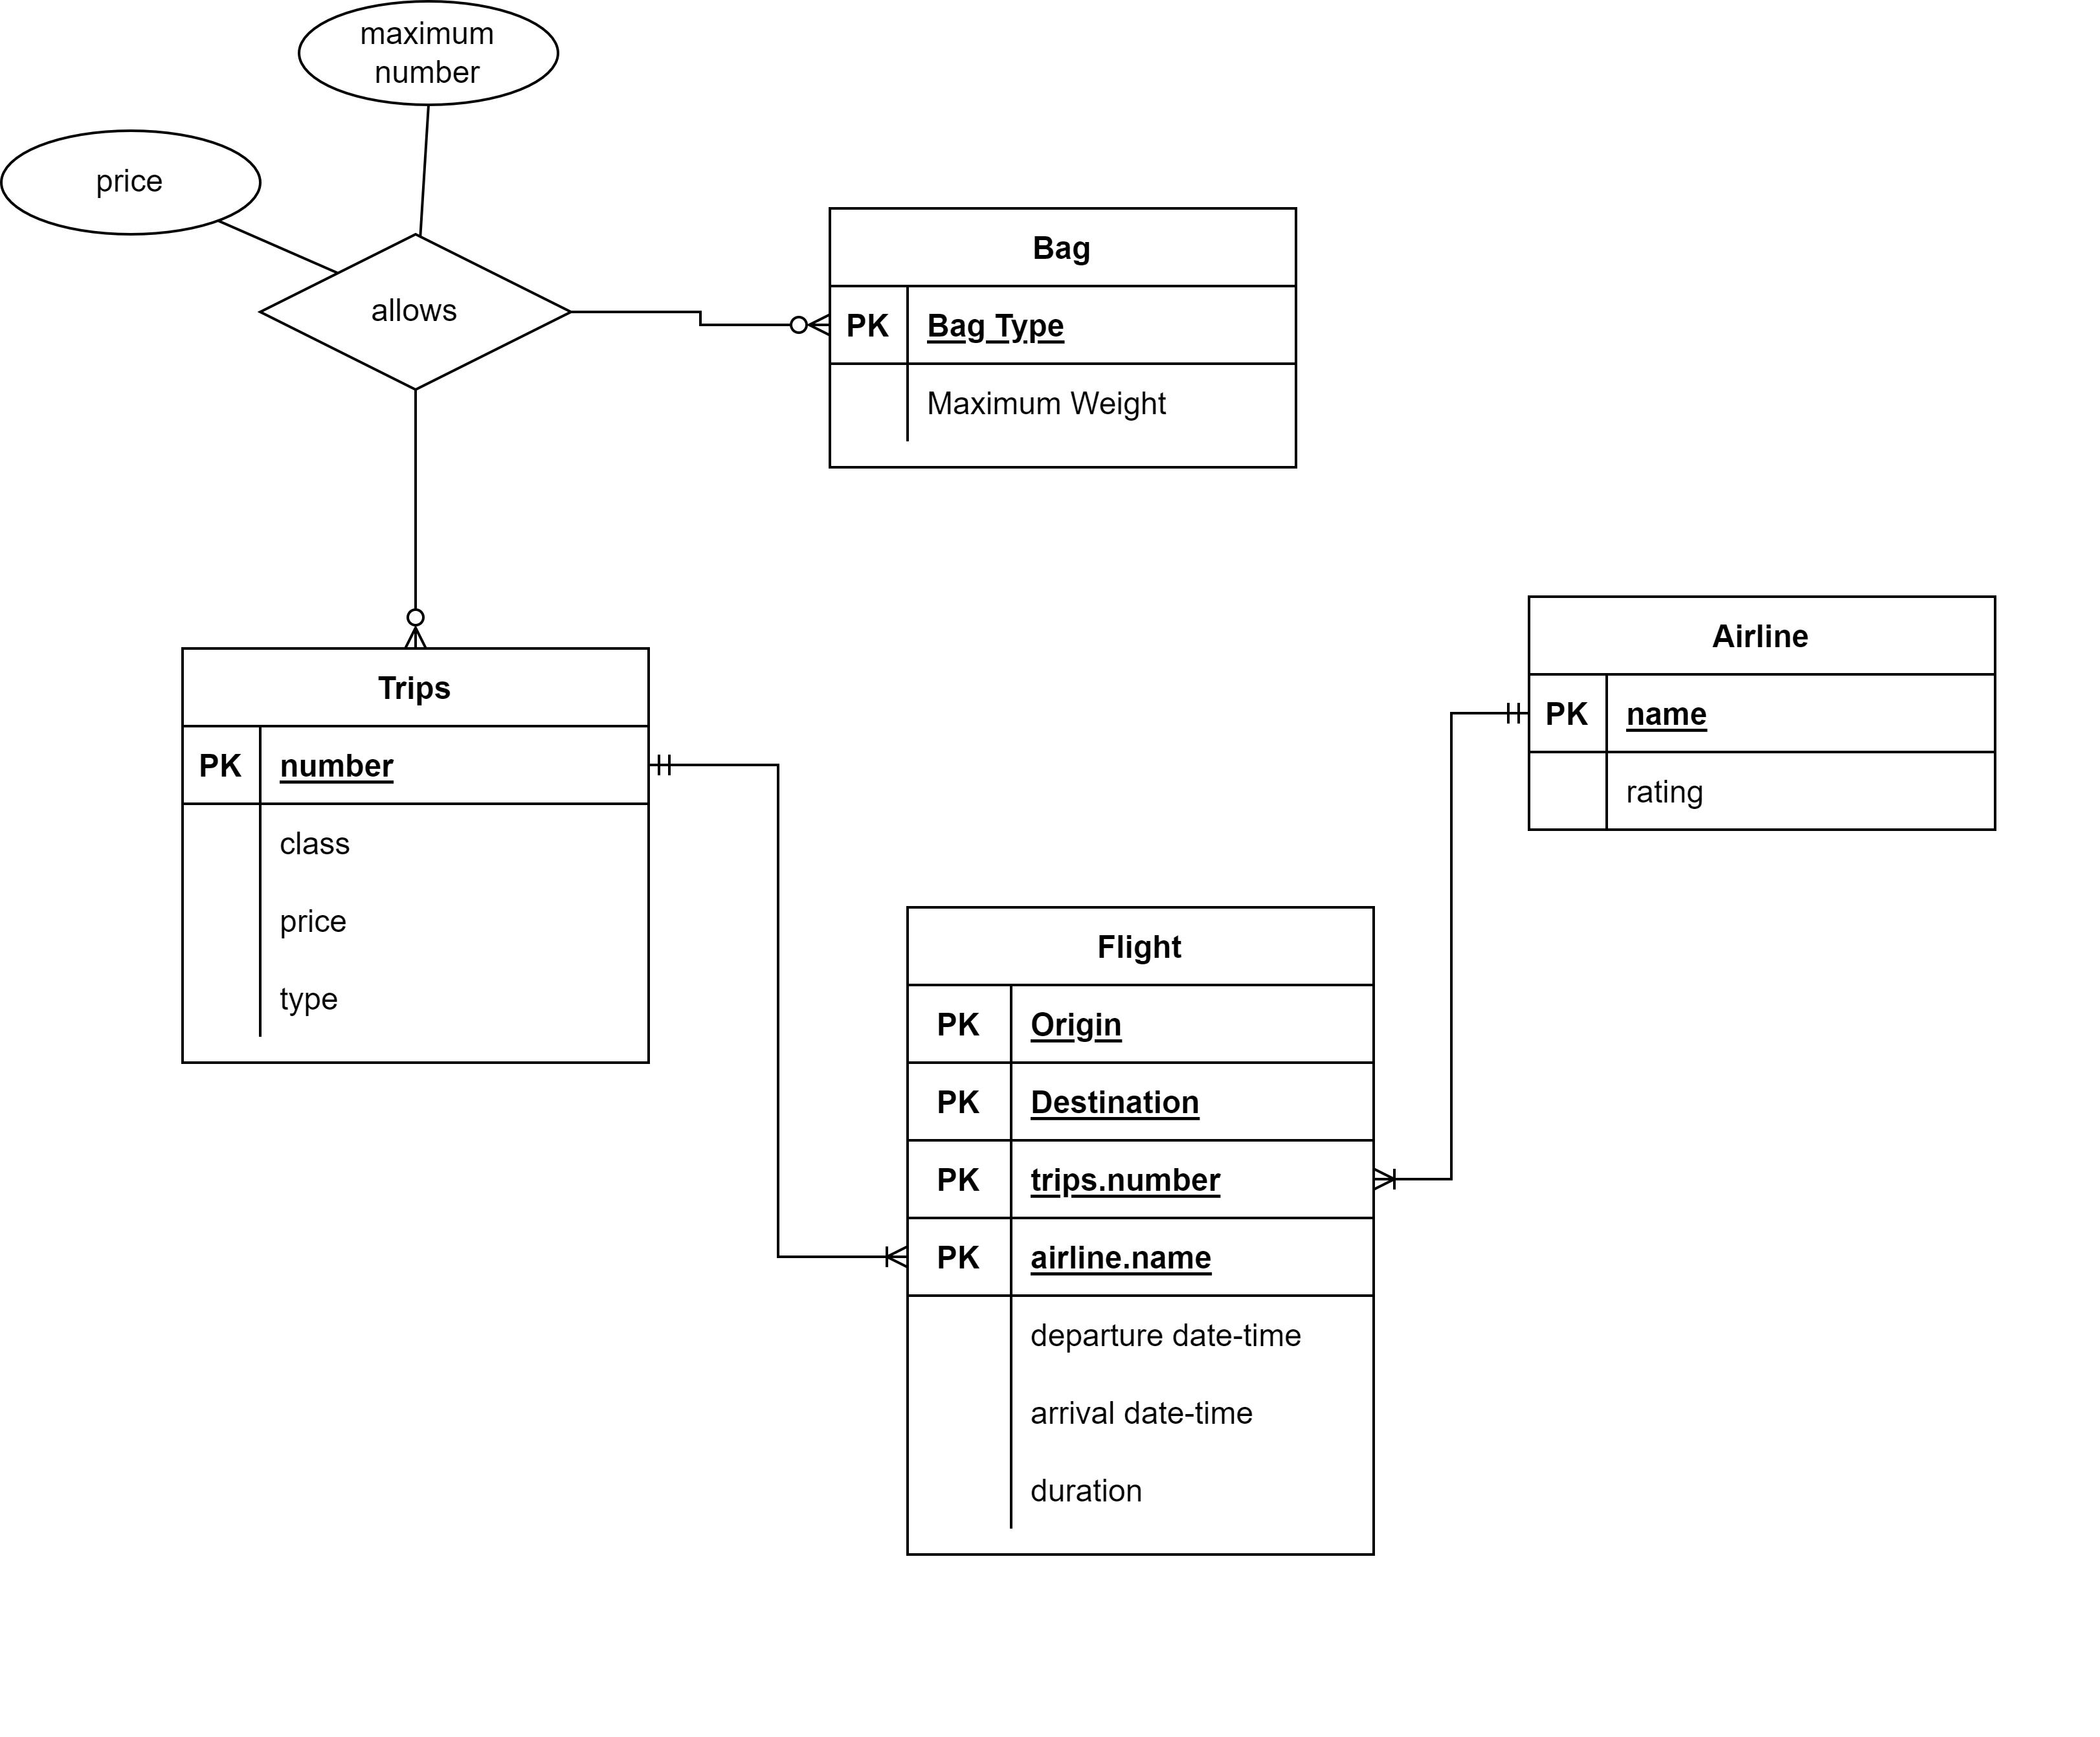attribute: (295, 0, 558, 108), (0, 136, 262, 232)
entity: (903, 902, 1378, 1563), (176, 647, 652, 1069), (823, 202, 1298, 473), (1524, 589, 2004, 835)
relationship: (260, 234, 572, 392)
